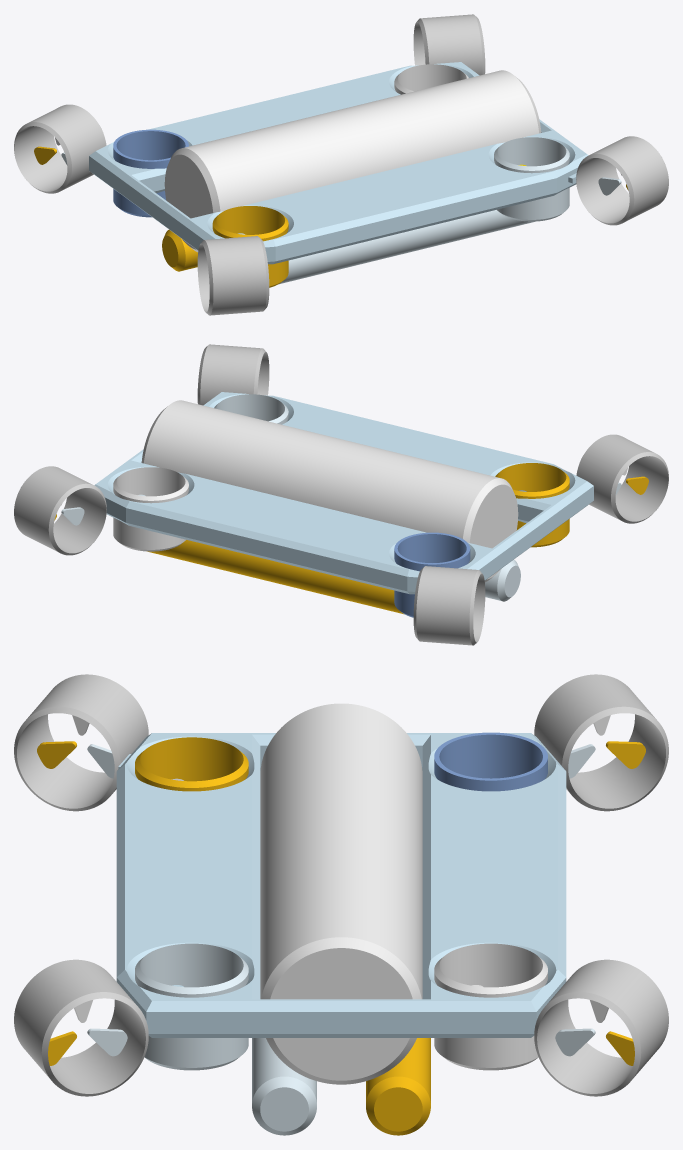
Rendered from bob_rov_3D.glb.
The picture shows the model from 3 angles, top to bottom: view 1: azimuth 30°, elevation 25°; view 2: azimuth 150°, elevation 25°; view 3: azimuth 270°, elevation 25°; orthographic projection. The views are drawn at different scales.
Visible parts, largest first — view 1: Part 1, Part 7, Part 2, Part 33, Part 25, Part 8, Part 5, Part 29, Part 3, Part 6, Part 4, Part 9; view 2: Part 1, Part 7, Part 29, Part 25, Part 33, Part 9, Part 4, Part 2, Part 3, Part 6, Part 5, Part 8; view 3: Part 1, Part 7, Part 29, Part 2, Part 33, Part 25, Part 5, Part 4, Part 3, Part 6, Part 8, Part 9 (+4 smaller).
Part boxes in pixels (left/top/right/bottom): Part 1: left=89, top=62, right=588, bottom=264; Part 7: left=164, top=70, right=541, bottom=252; Part 2: left=576, top=136, right=668, bottom=225; Part 33: left=14, top=104, right=106, bottom=193; Part 25: left=197, top=236, right=269, bottom=315; Part 8: left=278, top=210, right=534, bottom=284; Part 5: left=494, top=137, right=569, bottom=221; Part 29: left=413, top=14, right=485, bottom=75; Part 3: left=113, top=129, right=188, bottom=217; Part 6: left=212, top=206, right=288, bottom=287; Part 4: left=394, top=64, right=468, bottom=94; Part 9: left=162, top=229, right=197, bottom=271; Part 1: left=94, top=392, right=593, bottom=594; Part 7: left=141, top=400, right=518, bottom=582; Part 29: left=14, top=466, right=106, bottom=555; Part 25: left=576, top=434, right=668, bottom=523; Part 33: left=413, top=566, right=485, bottom=645; Part 9: left=147, top=540, right=404, bottom=614; Part 4: left=113, top=467, right=188, bottom=551; Part 2: left=197, top=344, right=269, bottom=405; Part 3: left=394, top=532, right=470, bottom=617; Part 6: left=495, top=463, right=569, bottom=547; Part 5: left=214, top=394, right=288, bottom=424; Part 8: left=485, top=559, right=520, bottom=601; Part 1: left=116, top=733, right=566, bottom=1037; Part 7: left=260, top=703, right=422, bottom=1084; Part 29: left=534, top=959, right=668, bottom=1096; Part 2: left=14, top=959, right=148, bottom=1096; Part 33: left=534, top=674, right=668, bottom=811; Part 25: left=14, top=674, right=148, bottom=811; Part 5: left=135, top=943, right=248, bottom=1070; Part 4: left=434, top=943, right=547, bottom=1070; Part 3: left=434, top=732, right=547, bottom=791; Part 6: left=135, top=737, right=248, bottom=791; Part 8: left=252, top=1038, right=316, bottom=1135; Part 9: left=366, top=1038, right=430, bottom=1135.
Size of the model in its own units: 0.4895 by 0.1345 by 0.4027.
